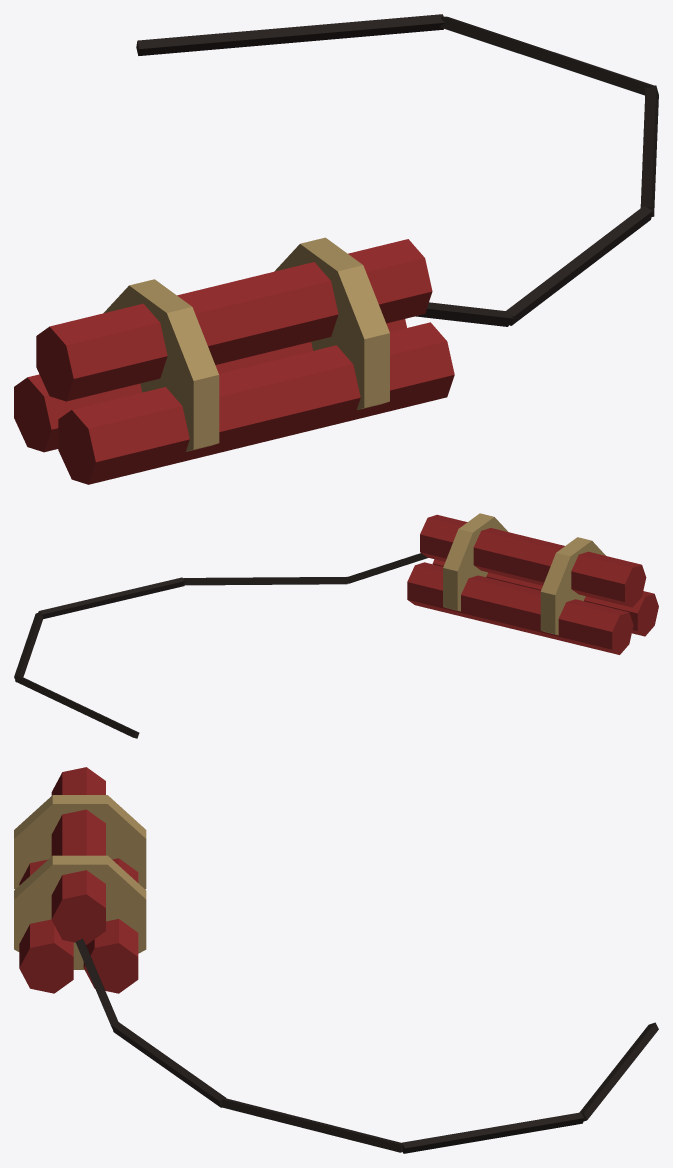
Rendered from mine_dynamite_bundle.glb.
3 views of the same model, one above another, from view 1: azimuth 30°, elevation 25°; view 2: azimuth 150°, elevation 25°; view 3: azimuth 270°, elevation 25° (orthographic). The views are drawn at different scales.
Visible parts, largest first — view 1: mine_dynamite_bundle; view 2: mine_dynamite_bundle; view 3: mine_dynamite_bundle.
Part boxes in pixels (<box>): mine_dynamite_bundle: <box>14,14,658,484</box>; mine_dynamite_bundle: <box>14,513,658,738</box>; mine_dynamite_bundle: <box>14,767,658,1153</box>.
Size of the model in its own units: 0.9669 by 0.1624 by 0.8996.
